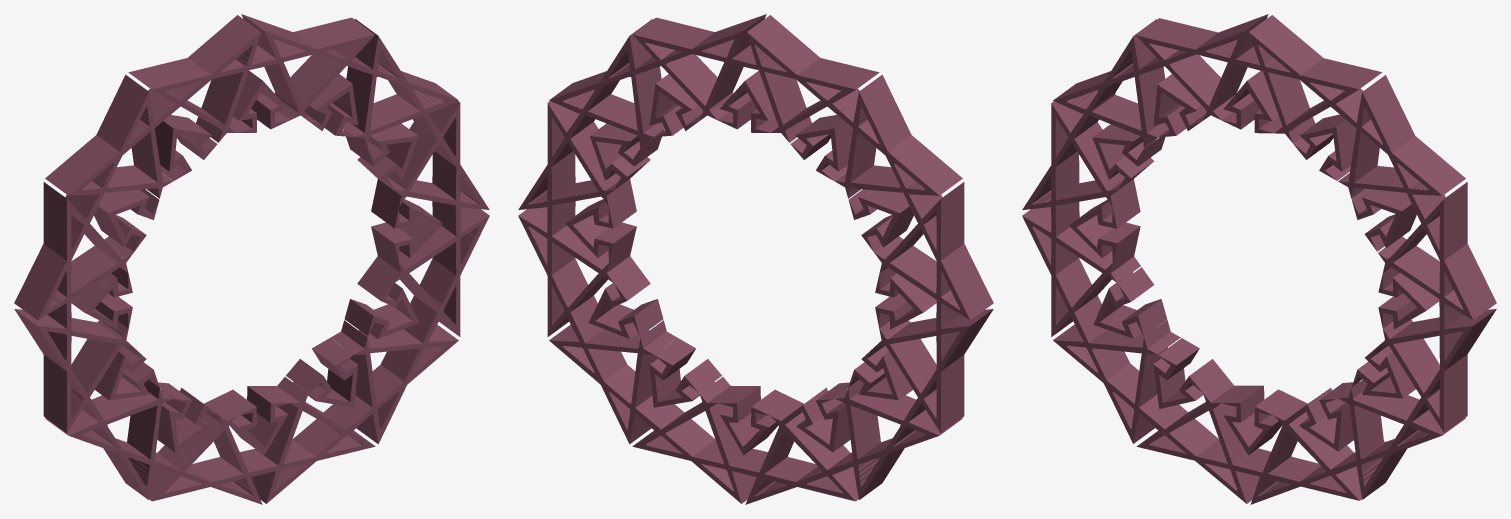
Rendered from umnsvp.glb.
The picture shows the model from 3 angles, left to right: view 1: azimuth 30°, elevation 25°; view 2: azimuth 150°, elevation 25°; view 3: azimuth 330°, elevation 25°; orthographic projection.
Visible parts, largest first — view 1: geometry_0; view 2: geometry_0; view 3: geometry_0.
Boxes of the visible parts, bbox=[...] form: geometry_0: bbox=[14, 14, 489, 504]; geometry_0: bbox=[518, 14, 993, 504]; geometry_0: bbox=[1022, 14, 1496, 504].
Size of the model in its own units: 1 by 1 by 0.09.
